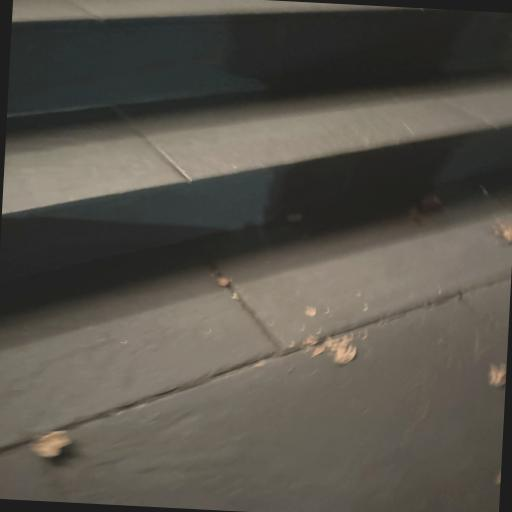debris: (301, 333, 357, 366), (31, 430, 72, 458), (493, 220, 512, 244), (488, 364, 506, 387), (216, 277, 232, 287), (305, 306, 316, 317)
stairs: (0, 1, 512, 280)
